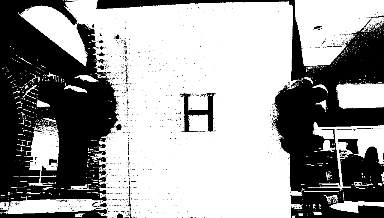H: (178, 89, 217, 132)
